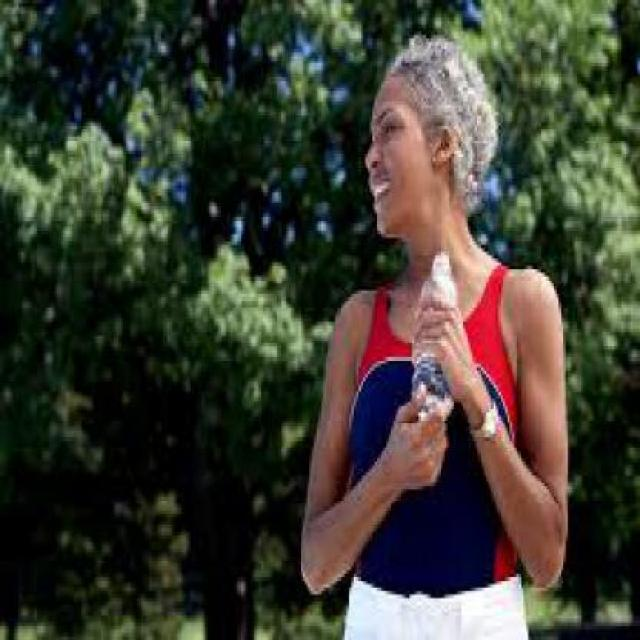Drinking: (404, 244, 476, 450)
